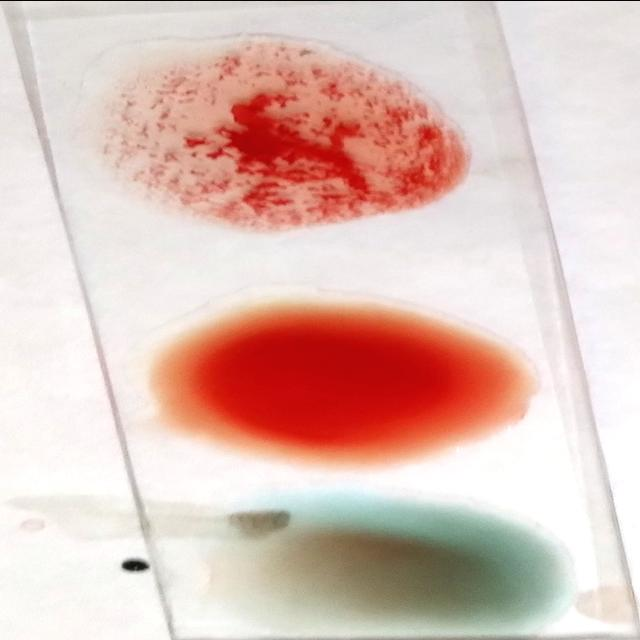D: (94, 29, 465, 230)
